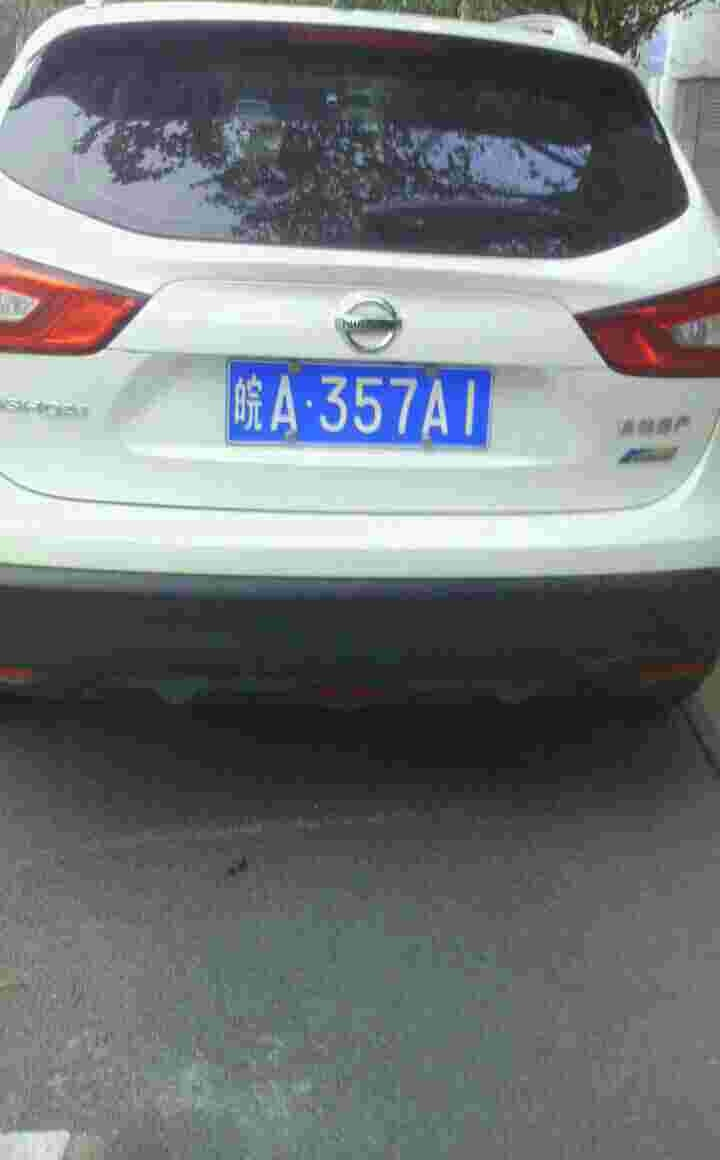license_plate: (226, 359, 488, 451)
